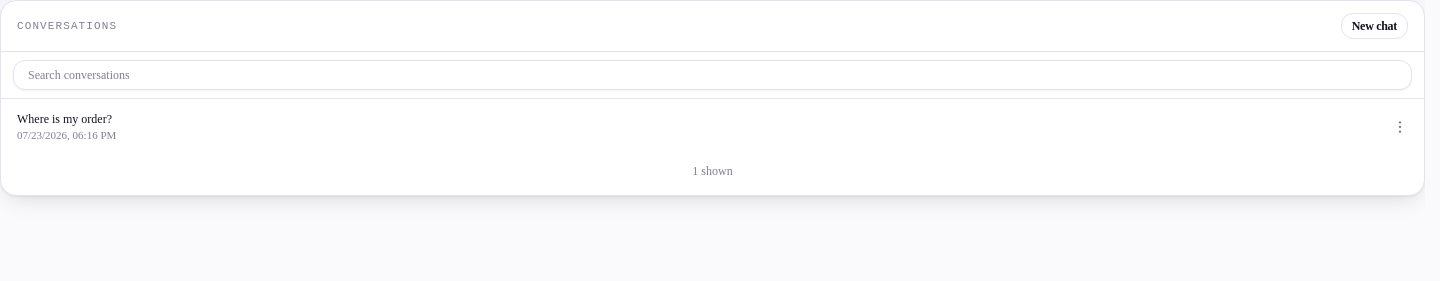
Scenario: AiConversationList thread menu › hides the delete action until the menu is opened
This screenshot has width=1440, height=281.
expect the menu item "delete conversation" is not shown: met
Click the button named "conversation options". click: (1400, 127)
box: [1384,111,1416,143]
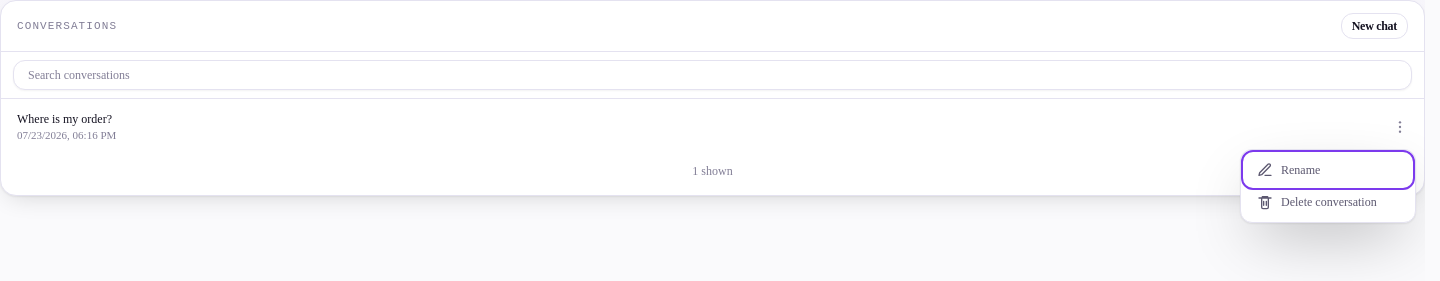
expect the menu item "Delete conversation" is shown: met, box [1245,186,1411,218]
